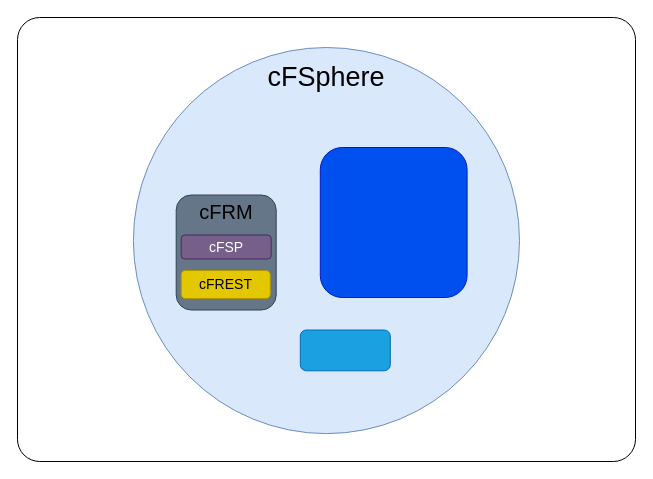
Image size: 653x479. Some labels were removed from this diagram. The shapes that lost their labels are listed below. From the top down, each one's centre as x and y in pixels, then its label:
the point at 393,222: cFDK
the point at 344,350: cFCreate
